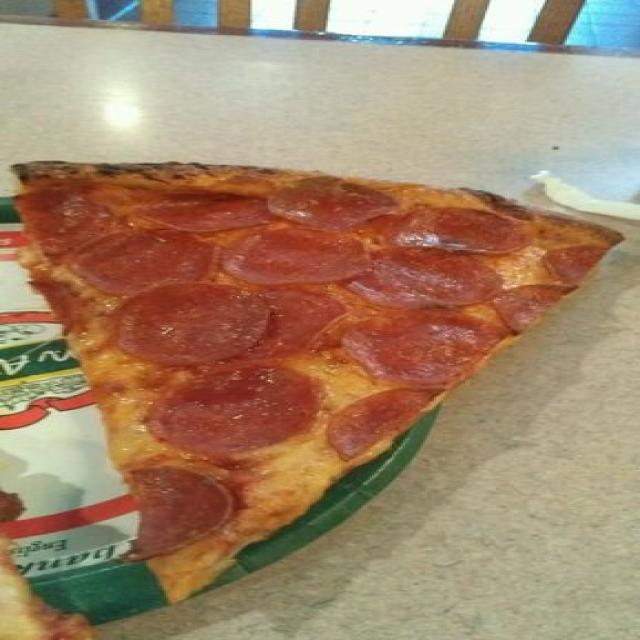Pepperoni: (160, 364, 308, 448), (122, 288, 268, 363), (129, 468, 239, 558), (355, 316, 479, 386), (326, 381, 446, 453), (82, 234, 220, 293), (224, 228, 363, 284), (25, 189, 122, 261), (269, 175, 392, 227), (360, 251, 477, 303), (258, 282, 336, 356), (136, 189, 273, 227), (397, 209, 520, 245), (490, 283, 572, 334), (552, 241, 600, 278)
Pizza: (11, 162, 622, 605)
